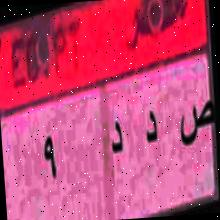9: (40, 130, 61, 194)
daal: (139, 99, 164, 158), (105, 113, 130, 170)
saad: (174, 88, 220, 162)
